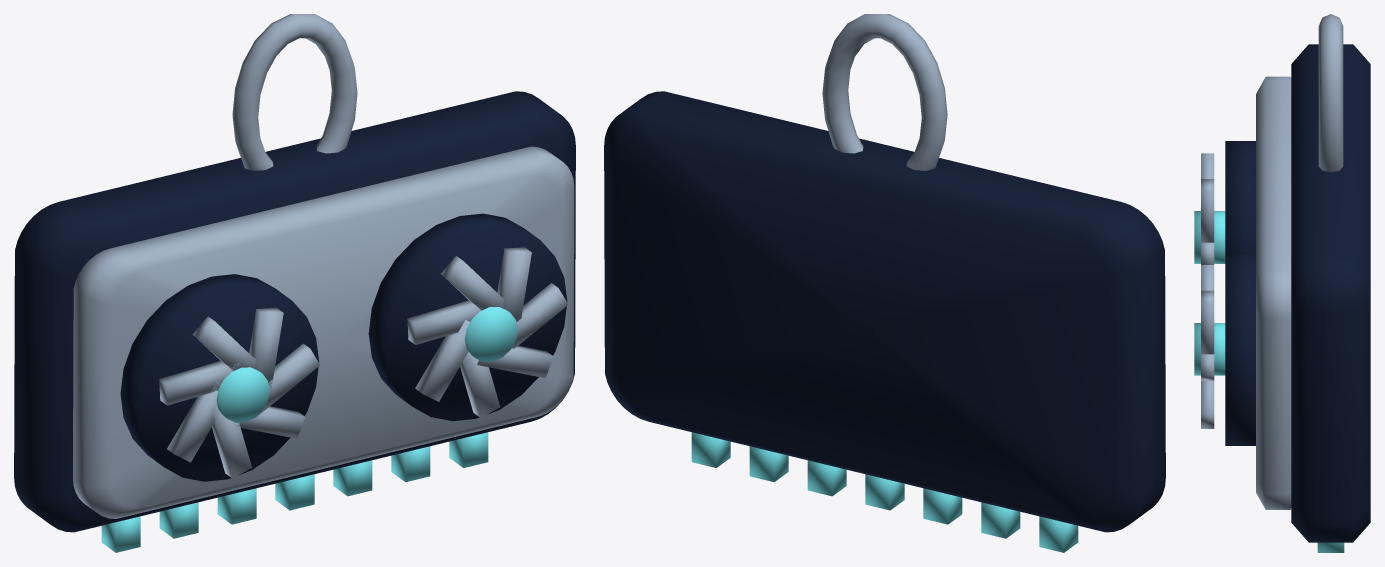
The model's file is nova_gpu_pendant.glb.
The picture shows the model from 3 angles, left to right: view 1: azimuth 30°, elevation 25°; view 2: azimuth 150°, elevation 25°; view 3: azimuth 270°, elevation 25°; orthographic projection. The views are drawn at different scales.
Parts seen in each view (by area): view 1: nova_gpu_pendant_metal, nova_gpu_pendant_dark, nova_gpu_pendant_gem; view 2: nova_gpu_pendant_dark, nova_gpu_pendant_metal, nova_gpu_pendant_gem; view 3: nova_gpu_pendant_dark, nova_gpu_pendant_metal, nova_gpu_pendant_gem.
Part boxes in pixels (bbox=[...]): nova_gpu_pendant_metal: bbox=[73, 14, 574, 518]; nova_gpu_pendant_dark: bbox=[14, 91, 575, 532]; nova_gpu_pendant_gem: bbox=[101, 307, 517, 552]; nova_gpu_pendant_dark: bbox=[604, 91, 1165, 532]; nova_gpu_pendant_metal: bbox=[822, 14, 947, 170]; nova_gpu_pendant_gem: bbox=[691, 432, 1078, 552]; nova_gpu_pendant_dark: bbox=[1225, 44, 1370, 542]; nova_gpu_pendant_metal: bbox=[1201, 14, 1343, 509]; nova_gpu_pendant_gem: bbox=[1194, 211, 1344, 552].
Bounding box in the file's own units: 0.065 × 0.0564 × 0.02.
